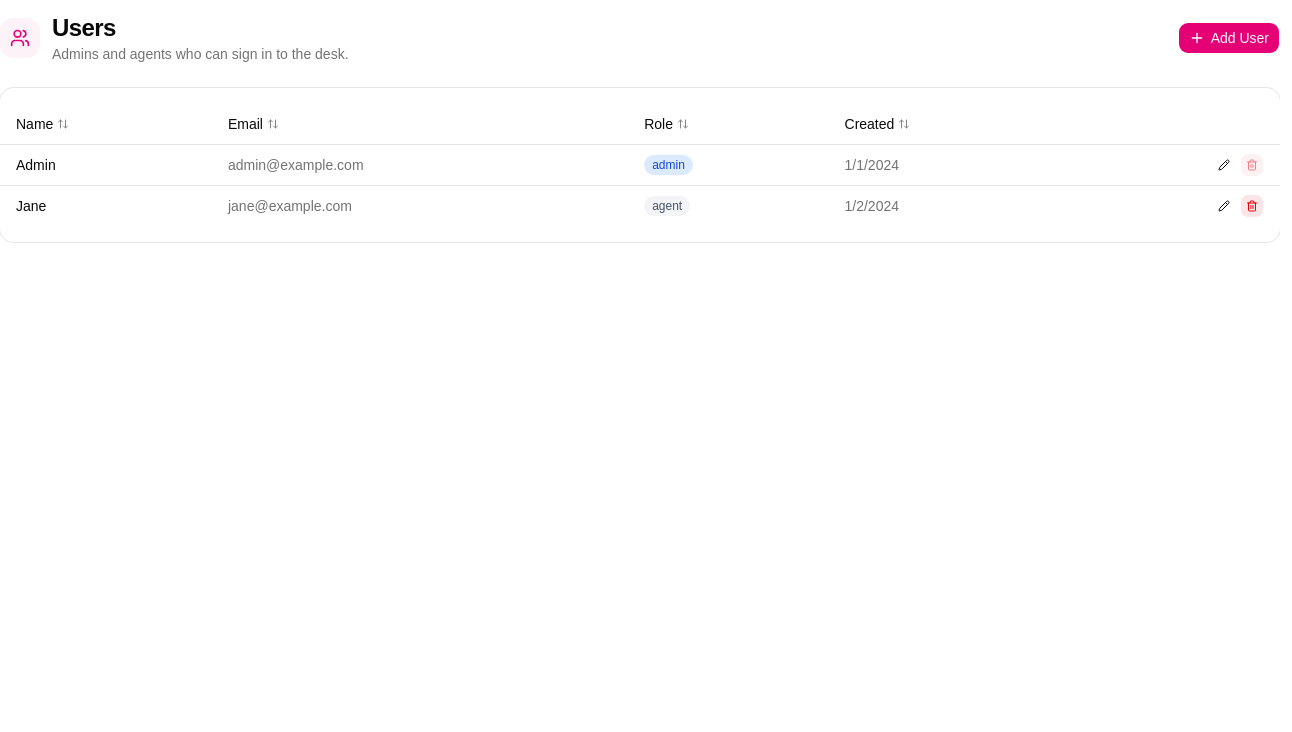
Users page › form validation › shows a validation error when name is empty
Expected: the text "Admin" is shown, [16,156,56,172]
Step 1. Click the button "Add User" → (1229, 38), box [1178,22,1280,54]
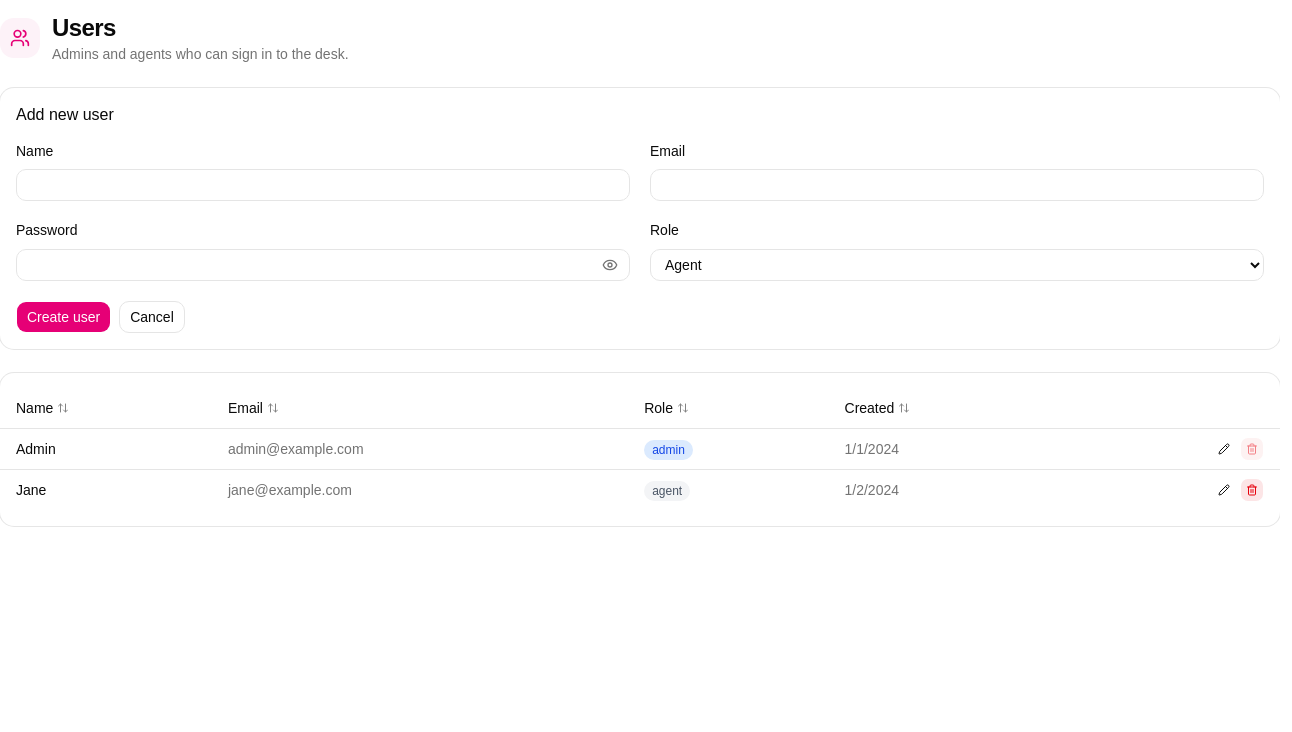
Step 2. Click the button "Create user" → (64, 316), box [16,300,111,332]
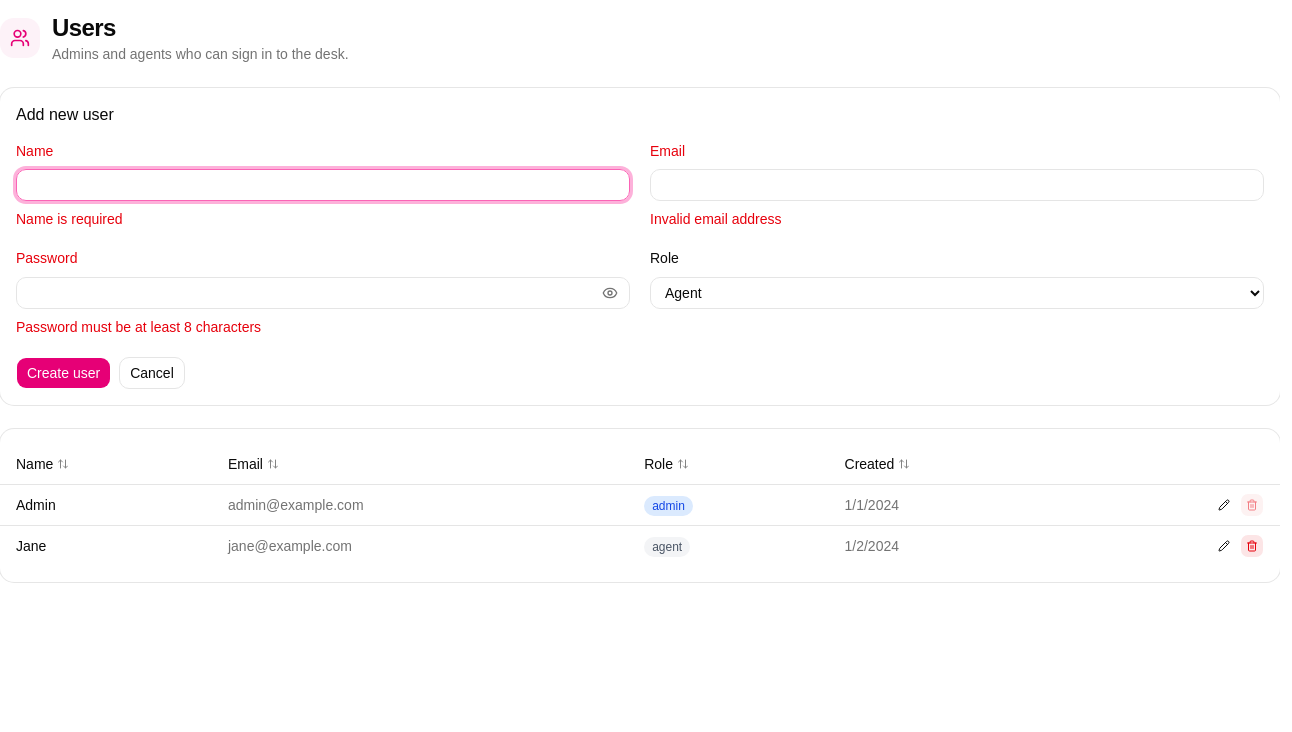
Result: the text "Name is required" is shown at [16,211,123,227]
